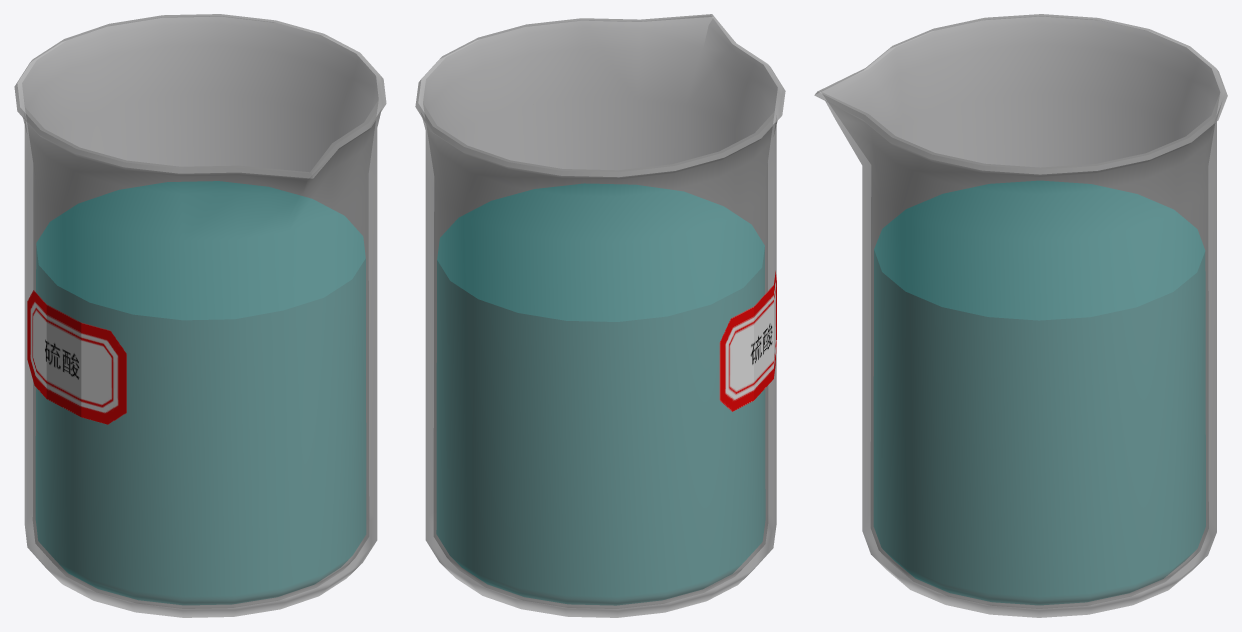
Rendered from SO4Cup.fbx.
3 renders of one model, left to right at view 1: azimuth 30°, elevation 25°; view 2: azimuth 150°, elevation 25°; view 3: azimuth 270°, elevation 25°, orthographic.
Visible parts, largest first — view 1: shebei2, yeti1; view 2: shebei2, yeti1; view 3: shebei2, yeti1.
Boxes of the visible parts, x1,y1,x2,y2 form: shebei2: (14,14,386,617); yeti1: (36,181,365,604); shebei2: (415,14,785,617); yeti1: (436,183,765,605); shebei2: (814,14,1227,617); yeti1: (874,181,1205,604).
Size of the model in its own units: 9.75 by 13.19 by 10.78.
